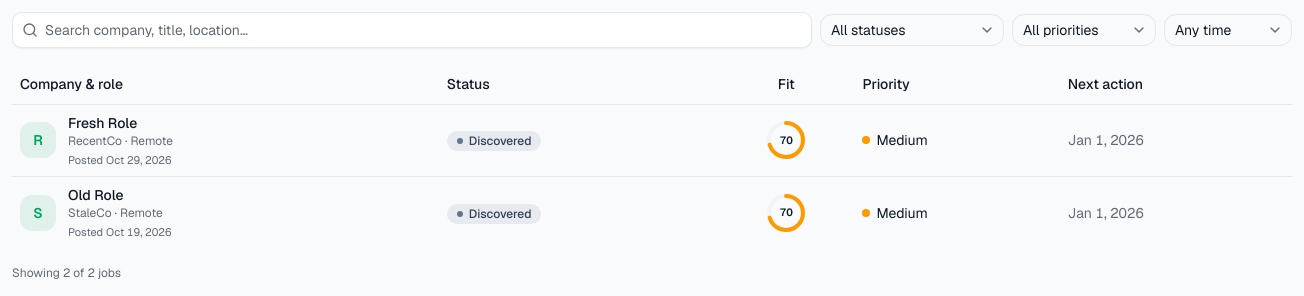
Test: filters by recency on datePosted (falling back to discoveredAt)
Expected: the text "Fresh Role" is shown, top-left (68, 114), bottom-right (137, 132)
Expected: the text "Old Role" is shown, top-left (68, 186), bottom-right (124, 204)
Click the dropdown named "filter by recency".
click(1228, 30)  # box top-left (1164, 14), bottom-right (1292, 46)
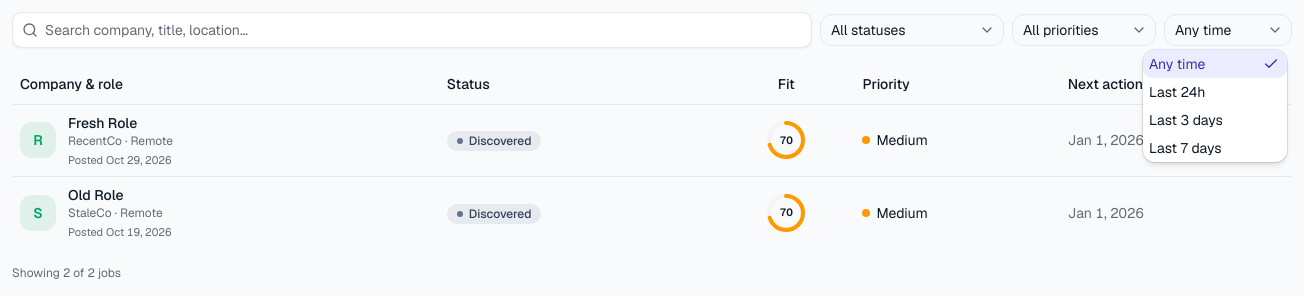
Click the option "Last 24h".
click(1177, 92)  # box top-left (1149, 83), bottom-right (1206, 101)
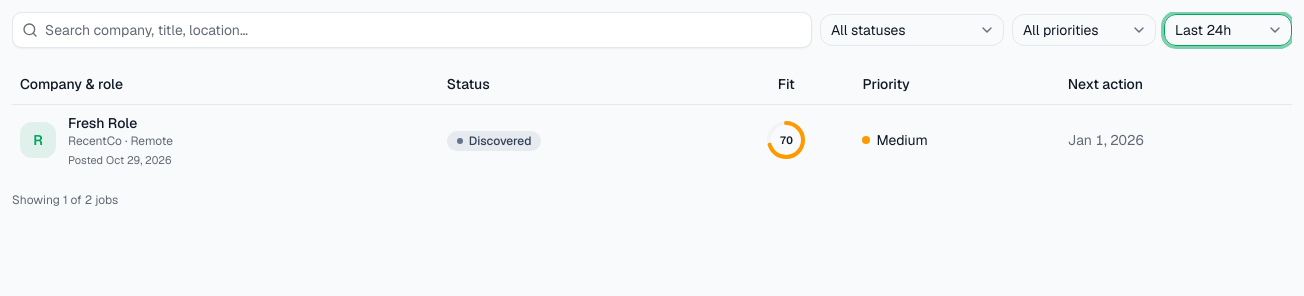
Expected: the text "Fresh Role" is shown, top-left (68, 114), bottom-right (137, 132)
Expected: the link "Old Role" is gone
